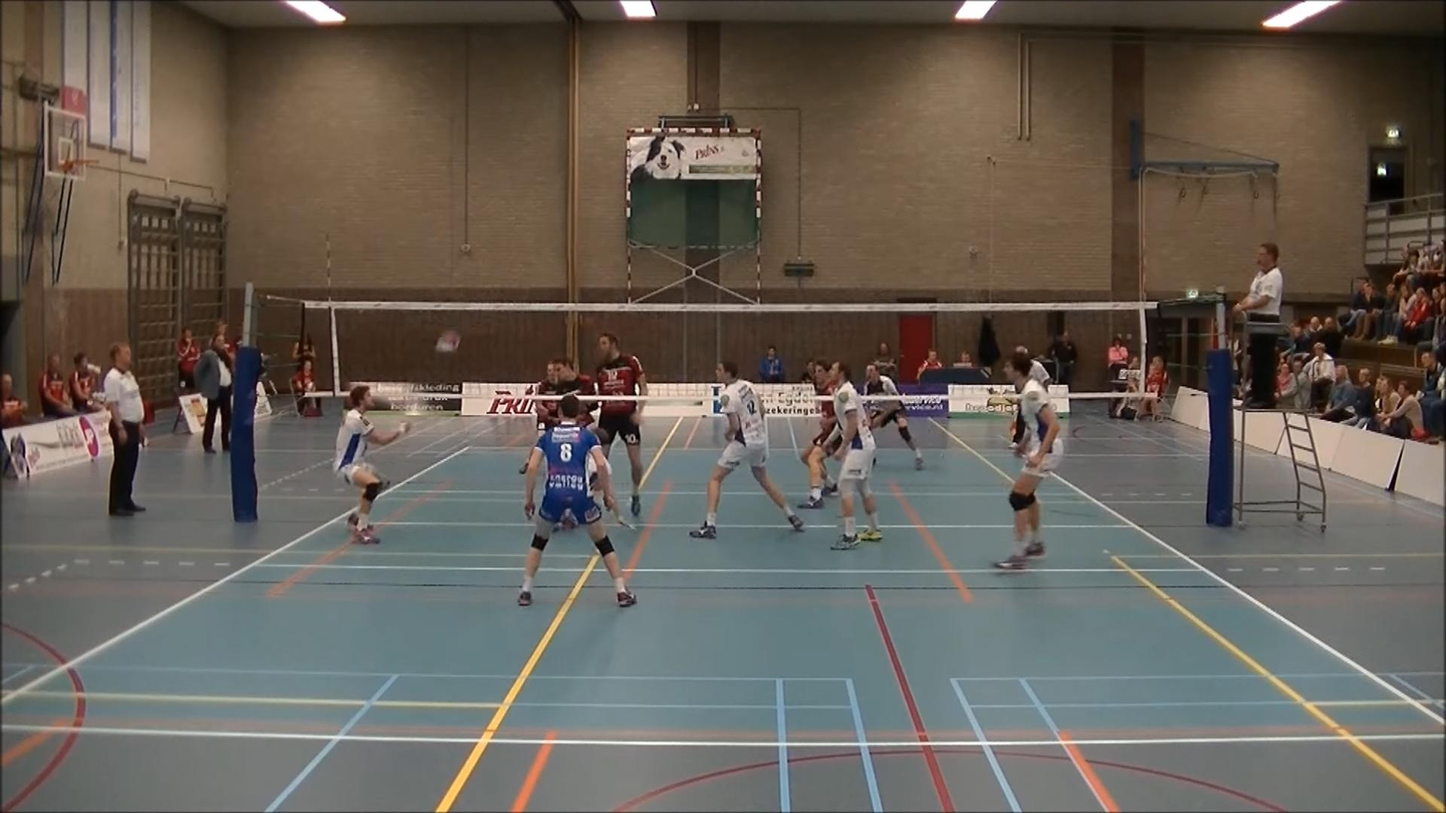difesa: (327, 378, 413, 540)
